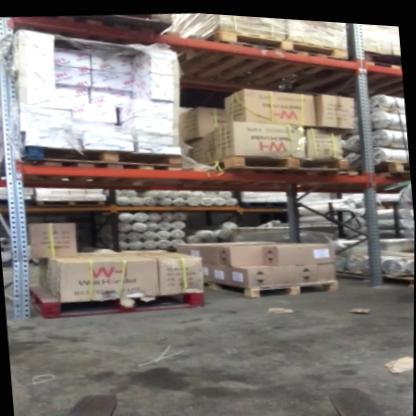vertical_damage: (8, 244, 37, 280)
